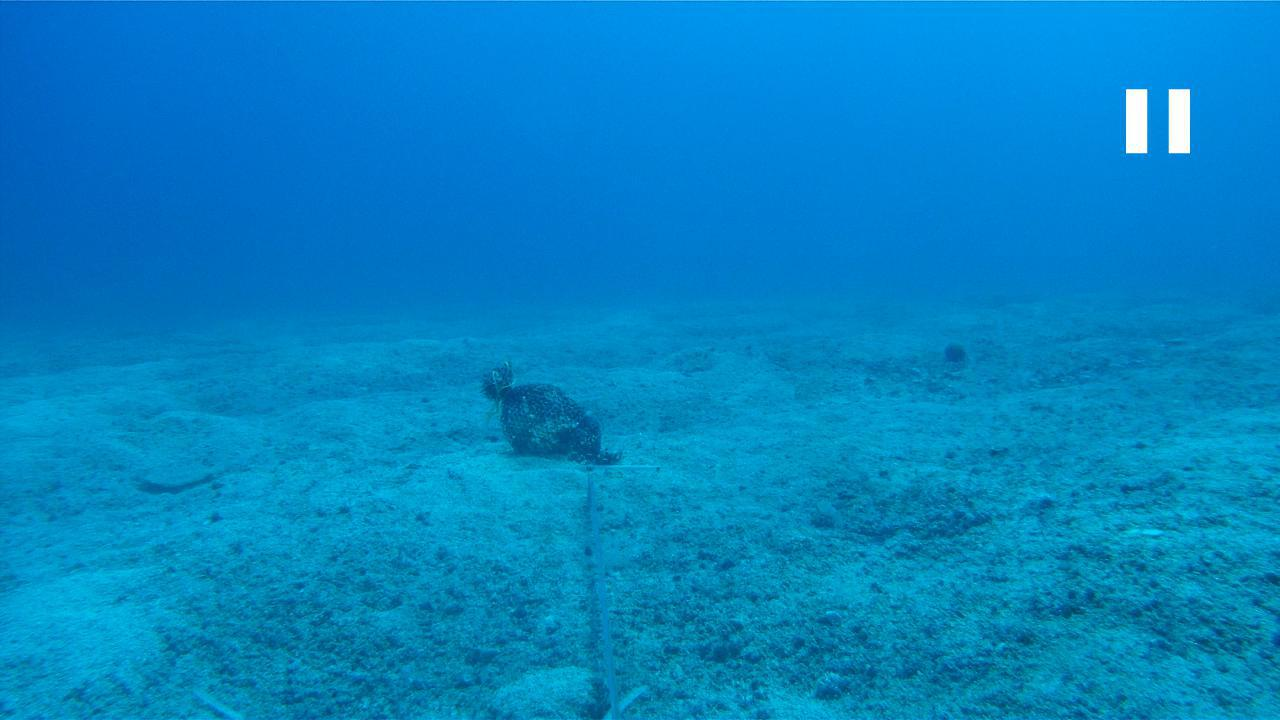bothus: (132, 457, 227, 489)
